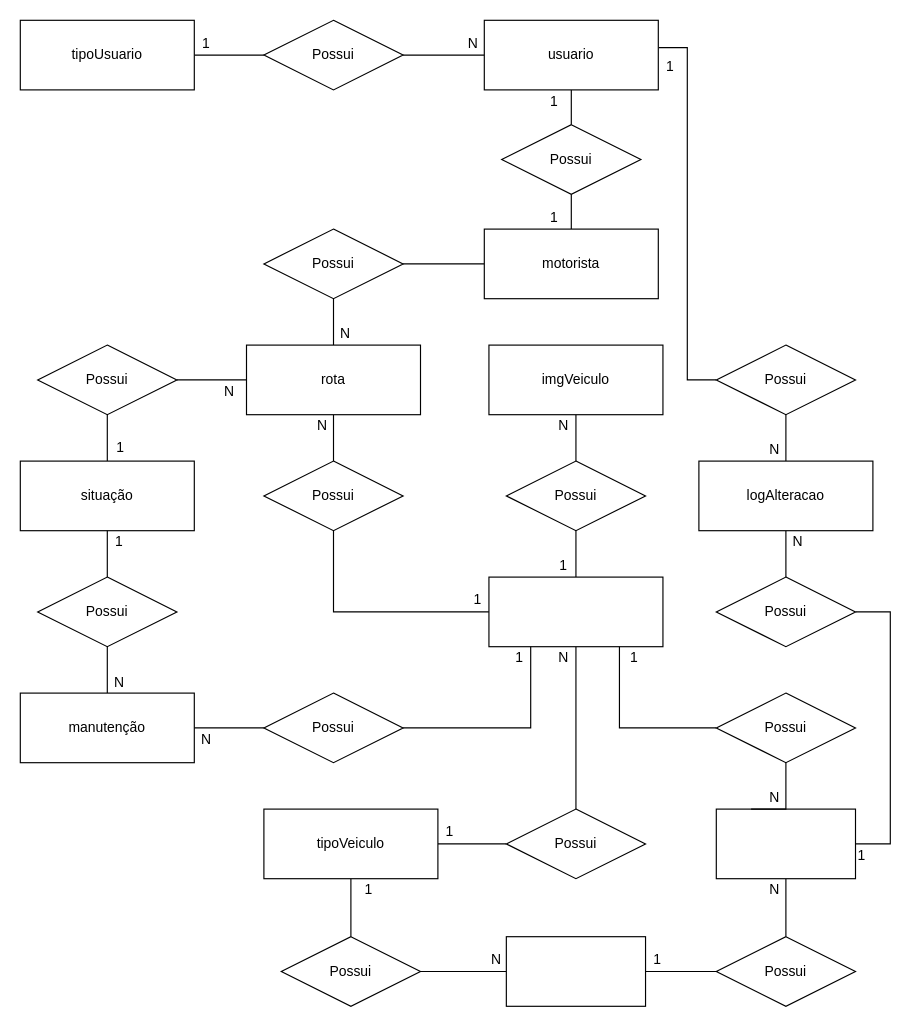
The diagram is 912 pixels wide and 1027 high, and some of its shapes have lost their labels. Each missing label, with the centre of its shape:
peça: pixel 785 843
tipoPeça: pixel 575 971
veículo: pixel 575 611
